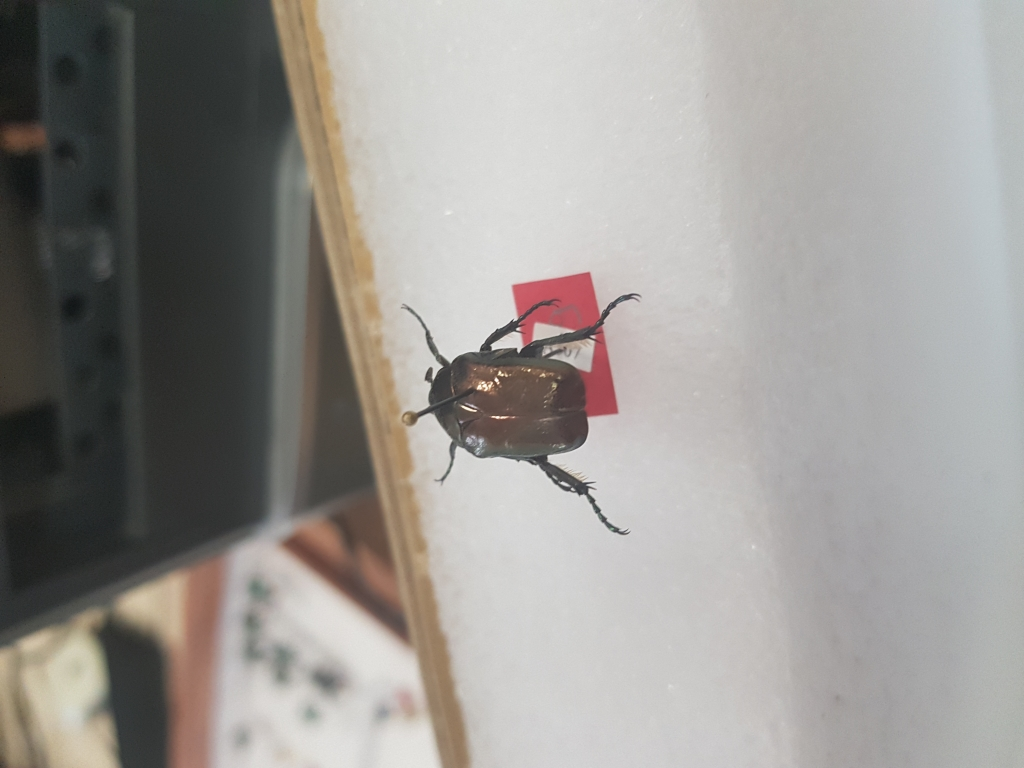Protaetia_besucheti: (385, 288, 656, 541)
